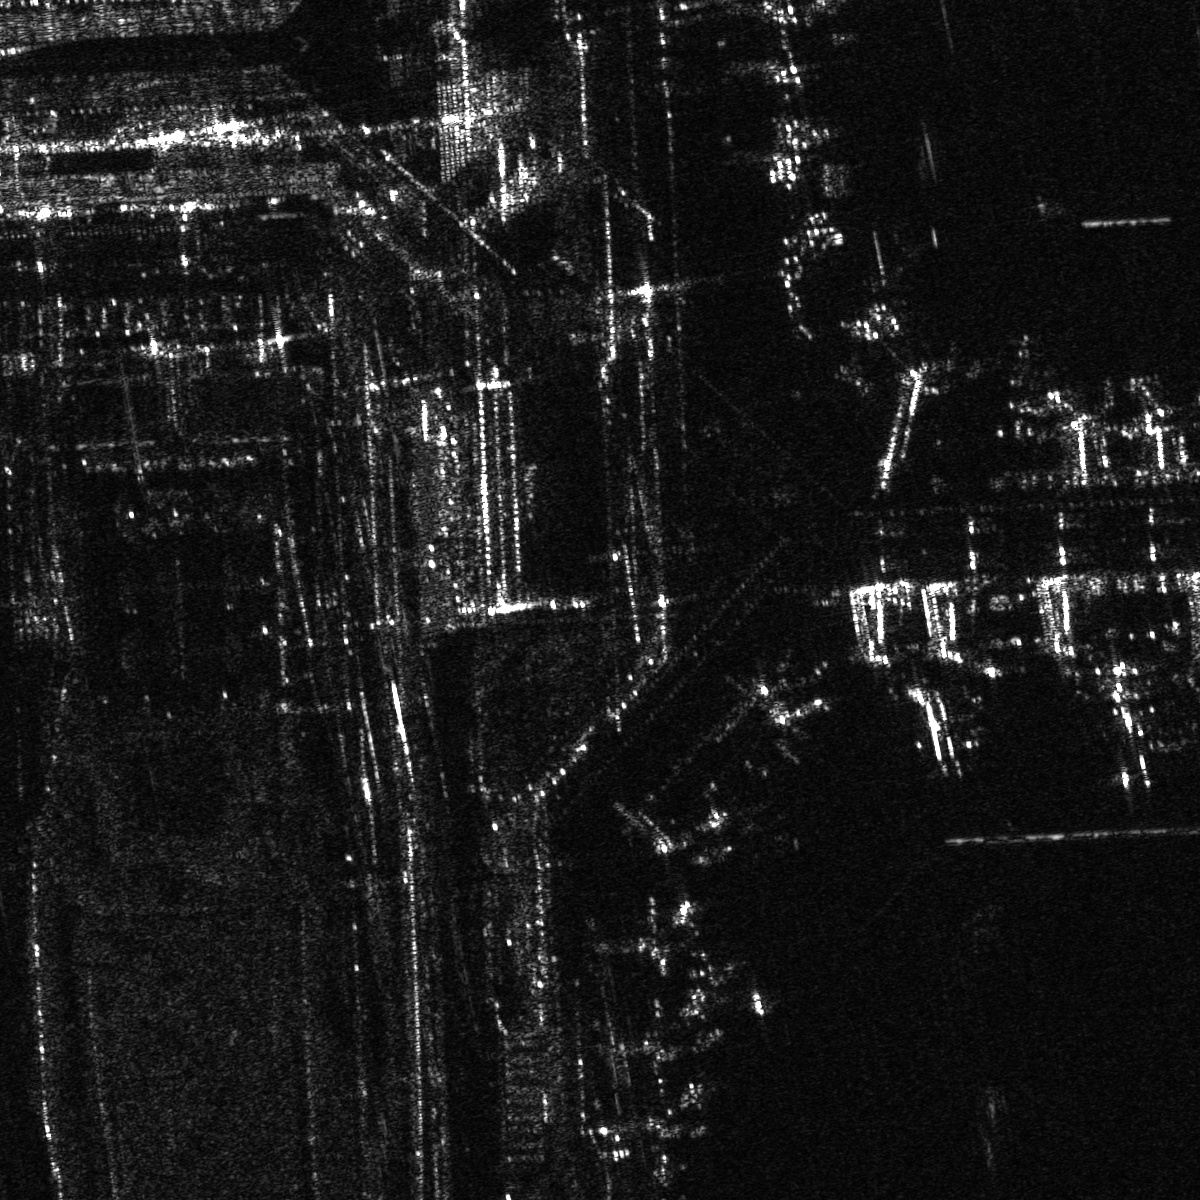Boeing737: (905, 680, 984, 779)
Boeing787: (1096, 677, 1174, 792)
